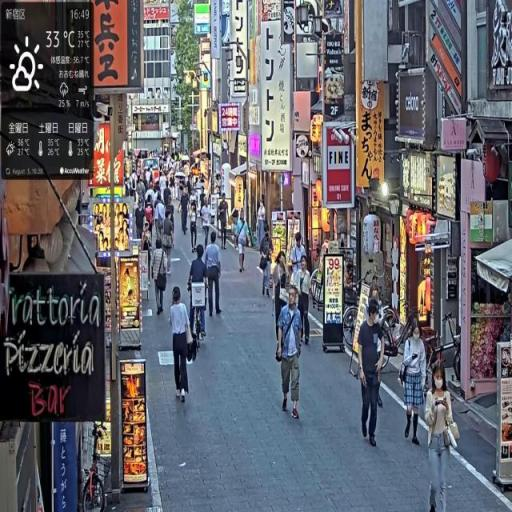person: (426, 359, 461, 512), (356, 298, 386, 452), (276, 284, 305, 422), (399, 318, 429, 446), (170, 284, 195, 404), (187, 243, 210, 345), (204, 231, 225, 322), (295, 256, 313, 348), (235, 211, 252, 275), (162, 211, 175, 272), (180, 187, 191, 235), (202, 198, 212, 249), (190, 202, 199, 254)
